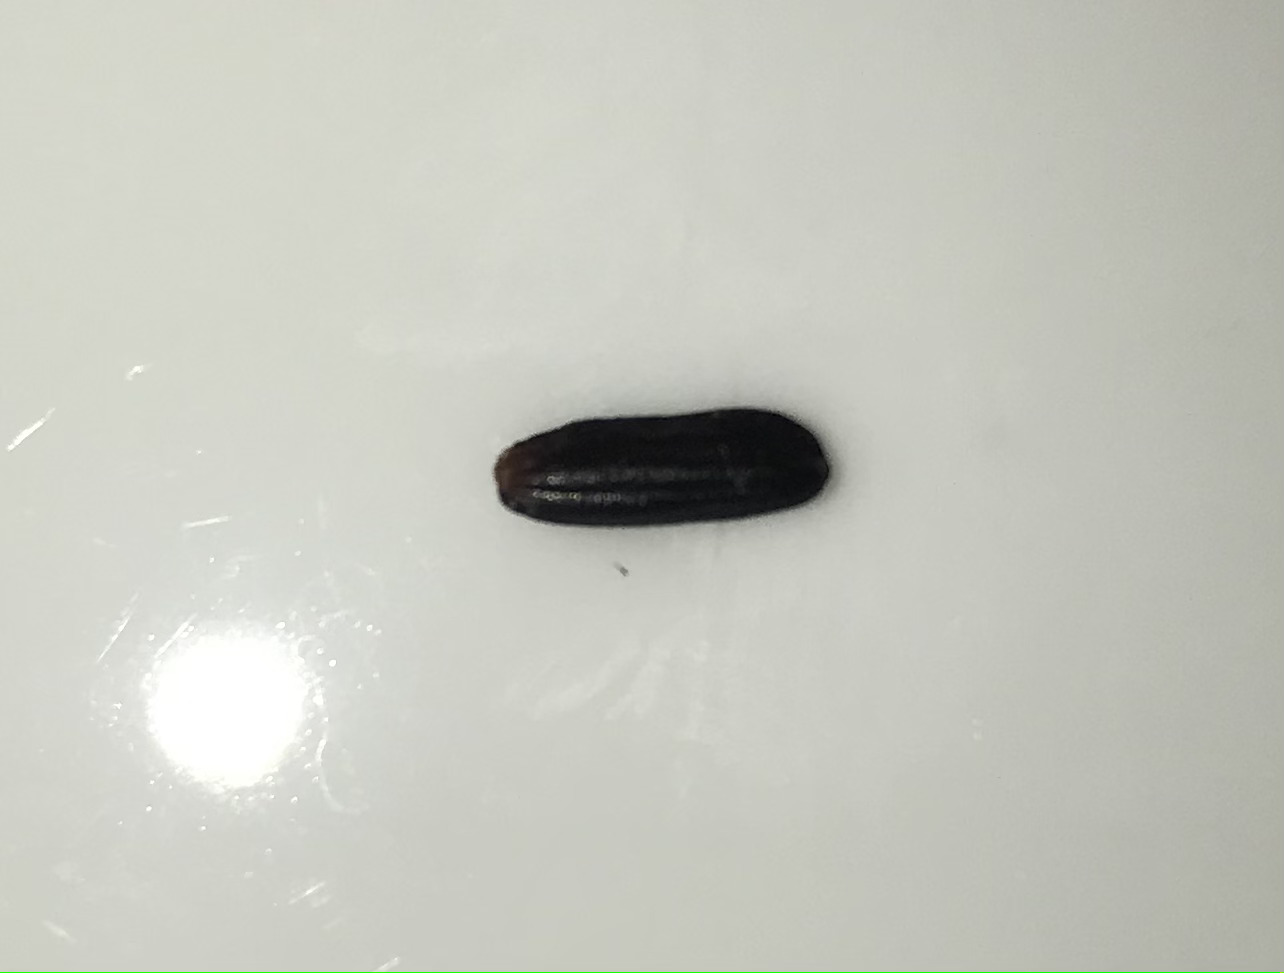Gao lut: (493, 407, 833, 529)
